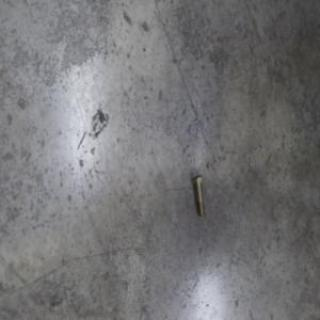Bolttrack_idkeyframe: (193, 171, 206, 215)
